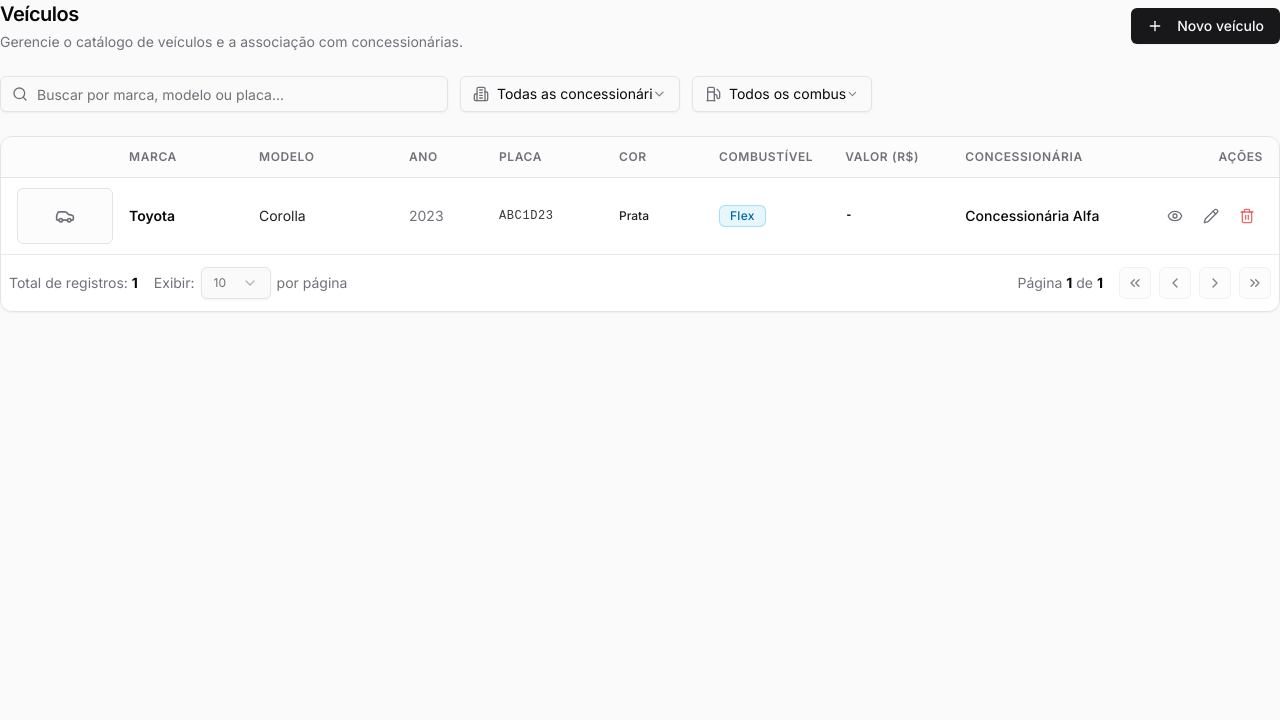
Test: VehiclesPage › should open edit dialog when edit button is clicked in table row
Click the button named "Editar veículo Toyota Corolla" at (1211, 216), box [1195,200,1227,232]
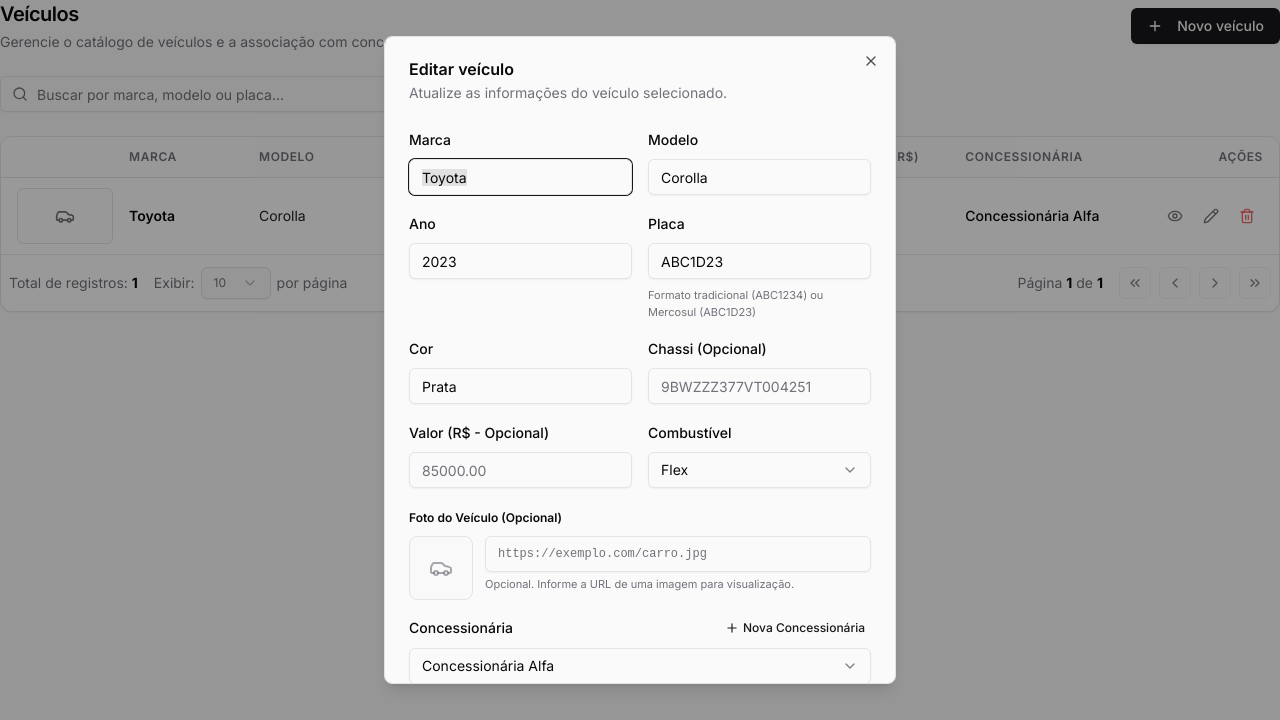
Expected: the dialog is shown, [384,36,896,684]
Expected: the heading "Editar veículo" is shown, [409,59,514,79]
